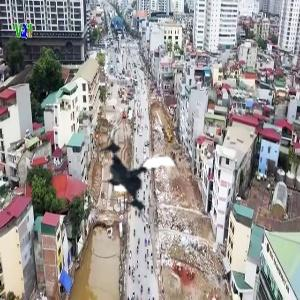drone: (86, 127, 185, 226)
